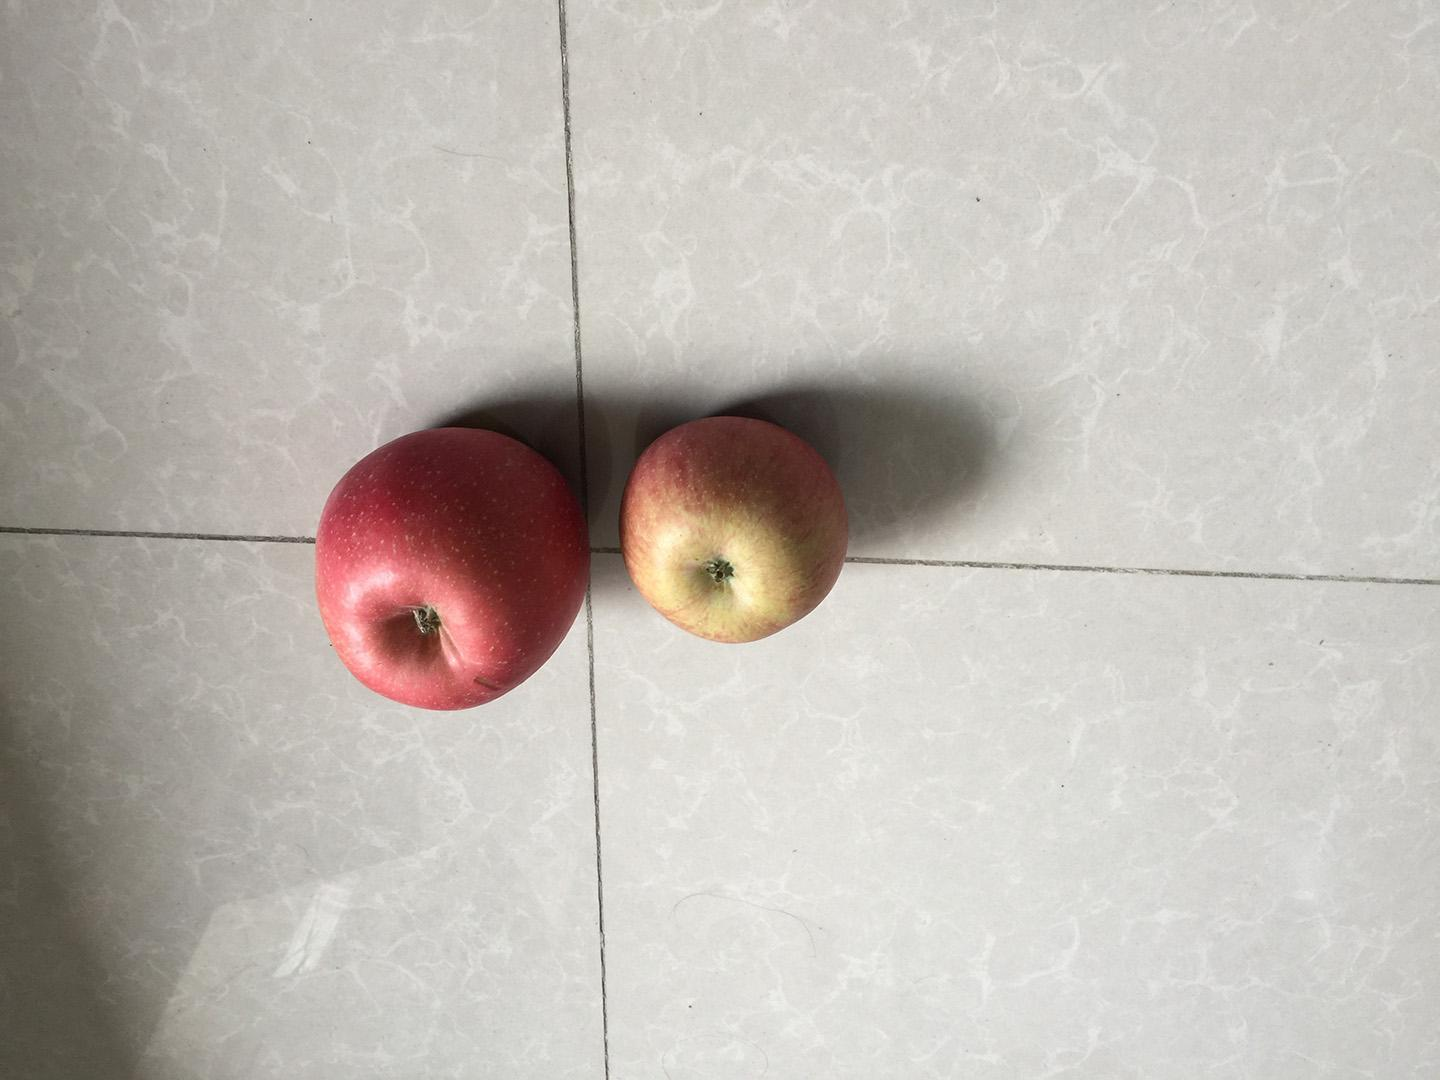apple: (310, 419, 596, 722), (613, 406, 857, 648)
